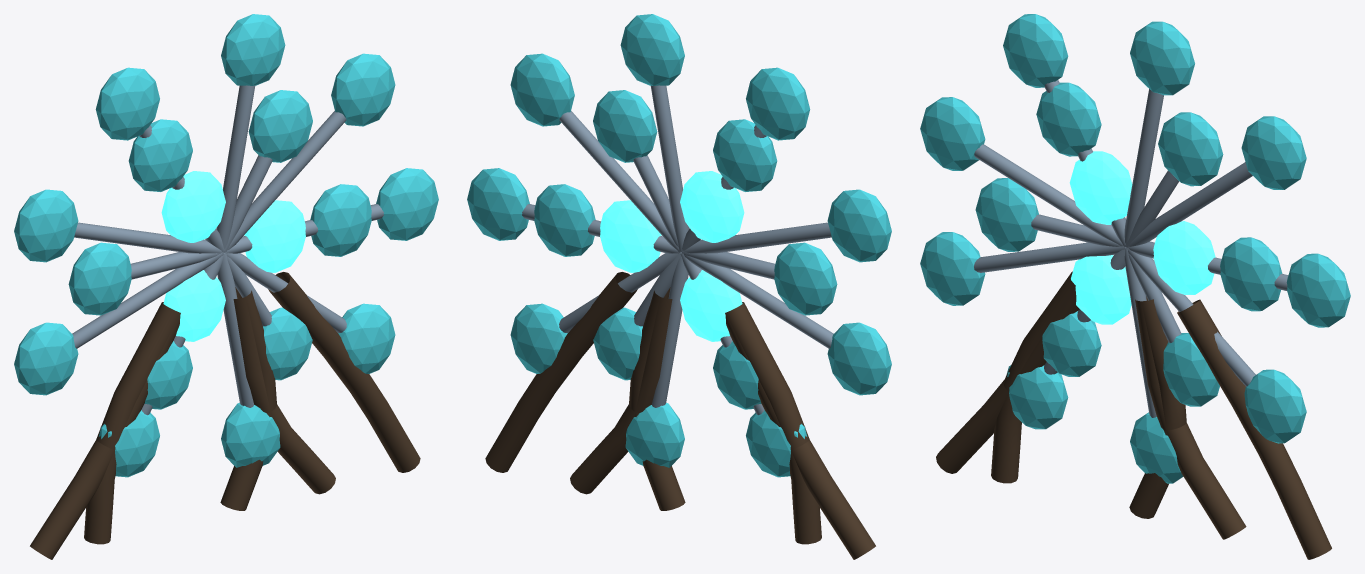
File: aberration_v6.glb
3 views of the same model, side by side, from view 1: azimuth 30°, elevation 25°; view 2: azimuth 150°, elevation 25°; view 3: azimuth 330°, elevation 25° (orthographic).
Visible parts, largest first — view 1: LATTICE_TENTACLE_SECONDARY, LATTICE_TENTACLE_SECONDARY.003, LATTICE_TENTACLE_SECONDARY.004, LATTICE_TENTACLE_SECONDARY.002, LATTICE_EYE_ACCENT.009, LATTICE_EYE_ACCENT.010, LATTICE_EYE_ACCENT.003, LATTICE_EYE_ACCENT.008, LATTICE_EYE_ACCENT.011, LATTICE_EYE_ACCENT.001, LATTICE_EYE_ACCENT.007, LATTICE_EYE_ACCENT.006 (+20 smaller); view 2: LATTICE_TENTACLE_SECONDARY, LATTICE_TENTACLE_SECONDARY.003, LATTICE_TENTACLE_SECONDARY.004, LATTICE_TENTACLE_SECONDARY.002, LATTICE_EYE_ACCENT.009, LATTICE_EYE_ACCENT.010, LATTICE_EYE_ACCENT.003, LATTICE_EYE_ACCENT.008, LATTICE_EYE_ACCENT.011, LATTICE_EYE_ACCENT.001, LATTICE_EYE_ACCENT.007, LATTICE_EYE_ACCENT.006 (+20 smaller); view 3: LATTICE_TENTACLE_SECONDARY, LATTICE_TENTACLE_SECONDARY.004, LATTICE_EYE_ACCENT.008, LATTICE_EYE_ACCENT.007, LATTICE_EYE_ACCENT.006, LATTICE_EYE_ACCENT.001, LATTICE_EYE_ACCENT.009, LATTICE_EYE_ACCENT.002, LATTICE_TENTACLE_SECONDARY.003, LATTICE_EYE_ACCENT.010, LATTICE_EYE_ACCENT, LATTICE_EYE_ACCENT.011 (+20 smaller).
Boxes of the visible parts, left/top/right/bottom form: LATTICE_TENTACLE_SECONDARY: left=268, top=272, right=420, bottom=472; LATTICE_TENTACLE_SECONDARY.003: left=84, top=302, right=180, bottom=544; LATTICE_TENTACLE_SECONDARY.004: left=233, top=287, right=335, bottom=494; LATTICE_TENTACLE_SECONDARY.002: left=30, top=302, right=180, bottom=559; LATTICE_EYE_ACCENT.009: left=95, top=67, right=159, bottom=140; LATTICE_EYE_ACCENT.010: left=14, top=189, right=78, bottom=262; LATTICE_EYE_ACCENT.003: left=68, top=242, right=131, bottom=315; LATTICE_EYE_ACCENT.008: left=221, top=14, right=285, bottom=85; LATTICE_EYE_ACCENT.011: left=14, top=322, right=78, bottom=395; LATTICE_EYE_ACCENT.001: left=248, top=90, right=312, bottom=162; LATTICE_EYE_ACCENT.007: left=331, top=53, right=395, bottom=126; LATTICE_EYE_ACCENT.006: left=376, top=168, right=438, bottom=240; LATTICE_TENTACLE_SECONDARY: left=485, top=272, right=637, bottom=472; LATTICE_TENTACLE_SECONDARY.003: left=725, top=302, right=821, bottom=544; LATTICE_TENTACLE_SECONDARY.004: left=570, top=287, right=672, bottom=494; LATTICE_TENTACLE_SECONDARY.002: left=725, top=302, right=875, bottom=559; LATTICE_EYE_ACCENT.009: left=746, top=67, right=810, bottom=140; LATTICE_EYE_ACCENT.010: left=827, top=189, right=891, bottom=262; LATTICE_EYE_ACCENT.003: left=774, top=242, right=837, bottom=315; LATTICE_EYE_ACCENT.008: left=620, top=14, right=684, bottom=85; LATTICE_EYE_ACCENT.011: left=827, top=322, right=891, bottom=395; LATTICE_EYE_ACCENT.001: left=593, top=90, right=657, bottom=162; LATTICE_EYE_ACCENT.007: left=510, top=53, right=574, bottom=126; LATTICE_EYE_ACCENT.006: left=467, top=168, right=529, bottom=240; LATTICE_TENTACLE_SECONDARY: left=1177, top=299, right=1331, bottom=559; LATTICE_TENTACLE_SECONDARY.004: left=1135, top=299, right=1246, bottom=539; LATTICE_EYE_ACCENT.008: left=1130, top=21, right=1194, bottom=95; LATTICE_EYE_ACCENT.007: left=1241, top=116, right=1306, bottom=189; LATTICE_EYE_ACCENT.006: left=1286, top=253, right=1350, bottom=327; LATTICE_EYE_ACCENT.001: left=1158, top=112, right=1223, bottom=186; LATTICE_EYE_ACCENT.009: left=1003, top=14, right=1068, bottom=87; LATTICE_EYE_ACCENT.002: left=1036, top=82, right=1101, bottom=156; LATTICE_TENTACLE_SECONDARY.003: left=991, top=272, right=1075, bottom=483; LATTICE_EYE_ACCENT.010: left=920, top=97, right=985, bottom=170; LATTICE_EYE_ACCENT: left=1220, top=237, right=1282, bottom=311; LATTICE_EYE_ACCENT.011: left=920, top=232, right=985, bottom=305.
Bounding box in the file's own units: 2.17 × 2.44 × 0.16.
